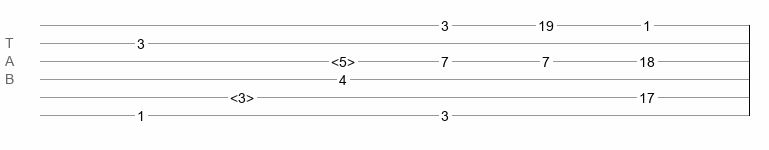1: (137, 108, 145, 118), (643, 18, 651, 28)
17: (639, 90, 655, 100)
18: (639, 54, 655, 64)
19: (538, 18, 554, 28)
3: (137, 36, 145, 46), (441, 108, 449, 118), (441, 18, 449, 28)
4: (339, 72, 347, 82)
7: (441, 54, 449, 64), (542, 54, 550, 64)
harmonic: (230, 90, 254, 100), (331, 54, 355, 64)
